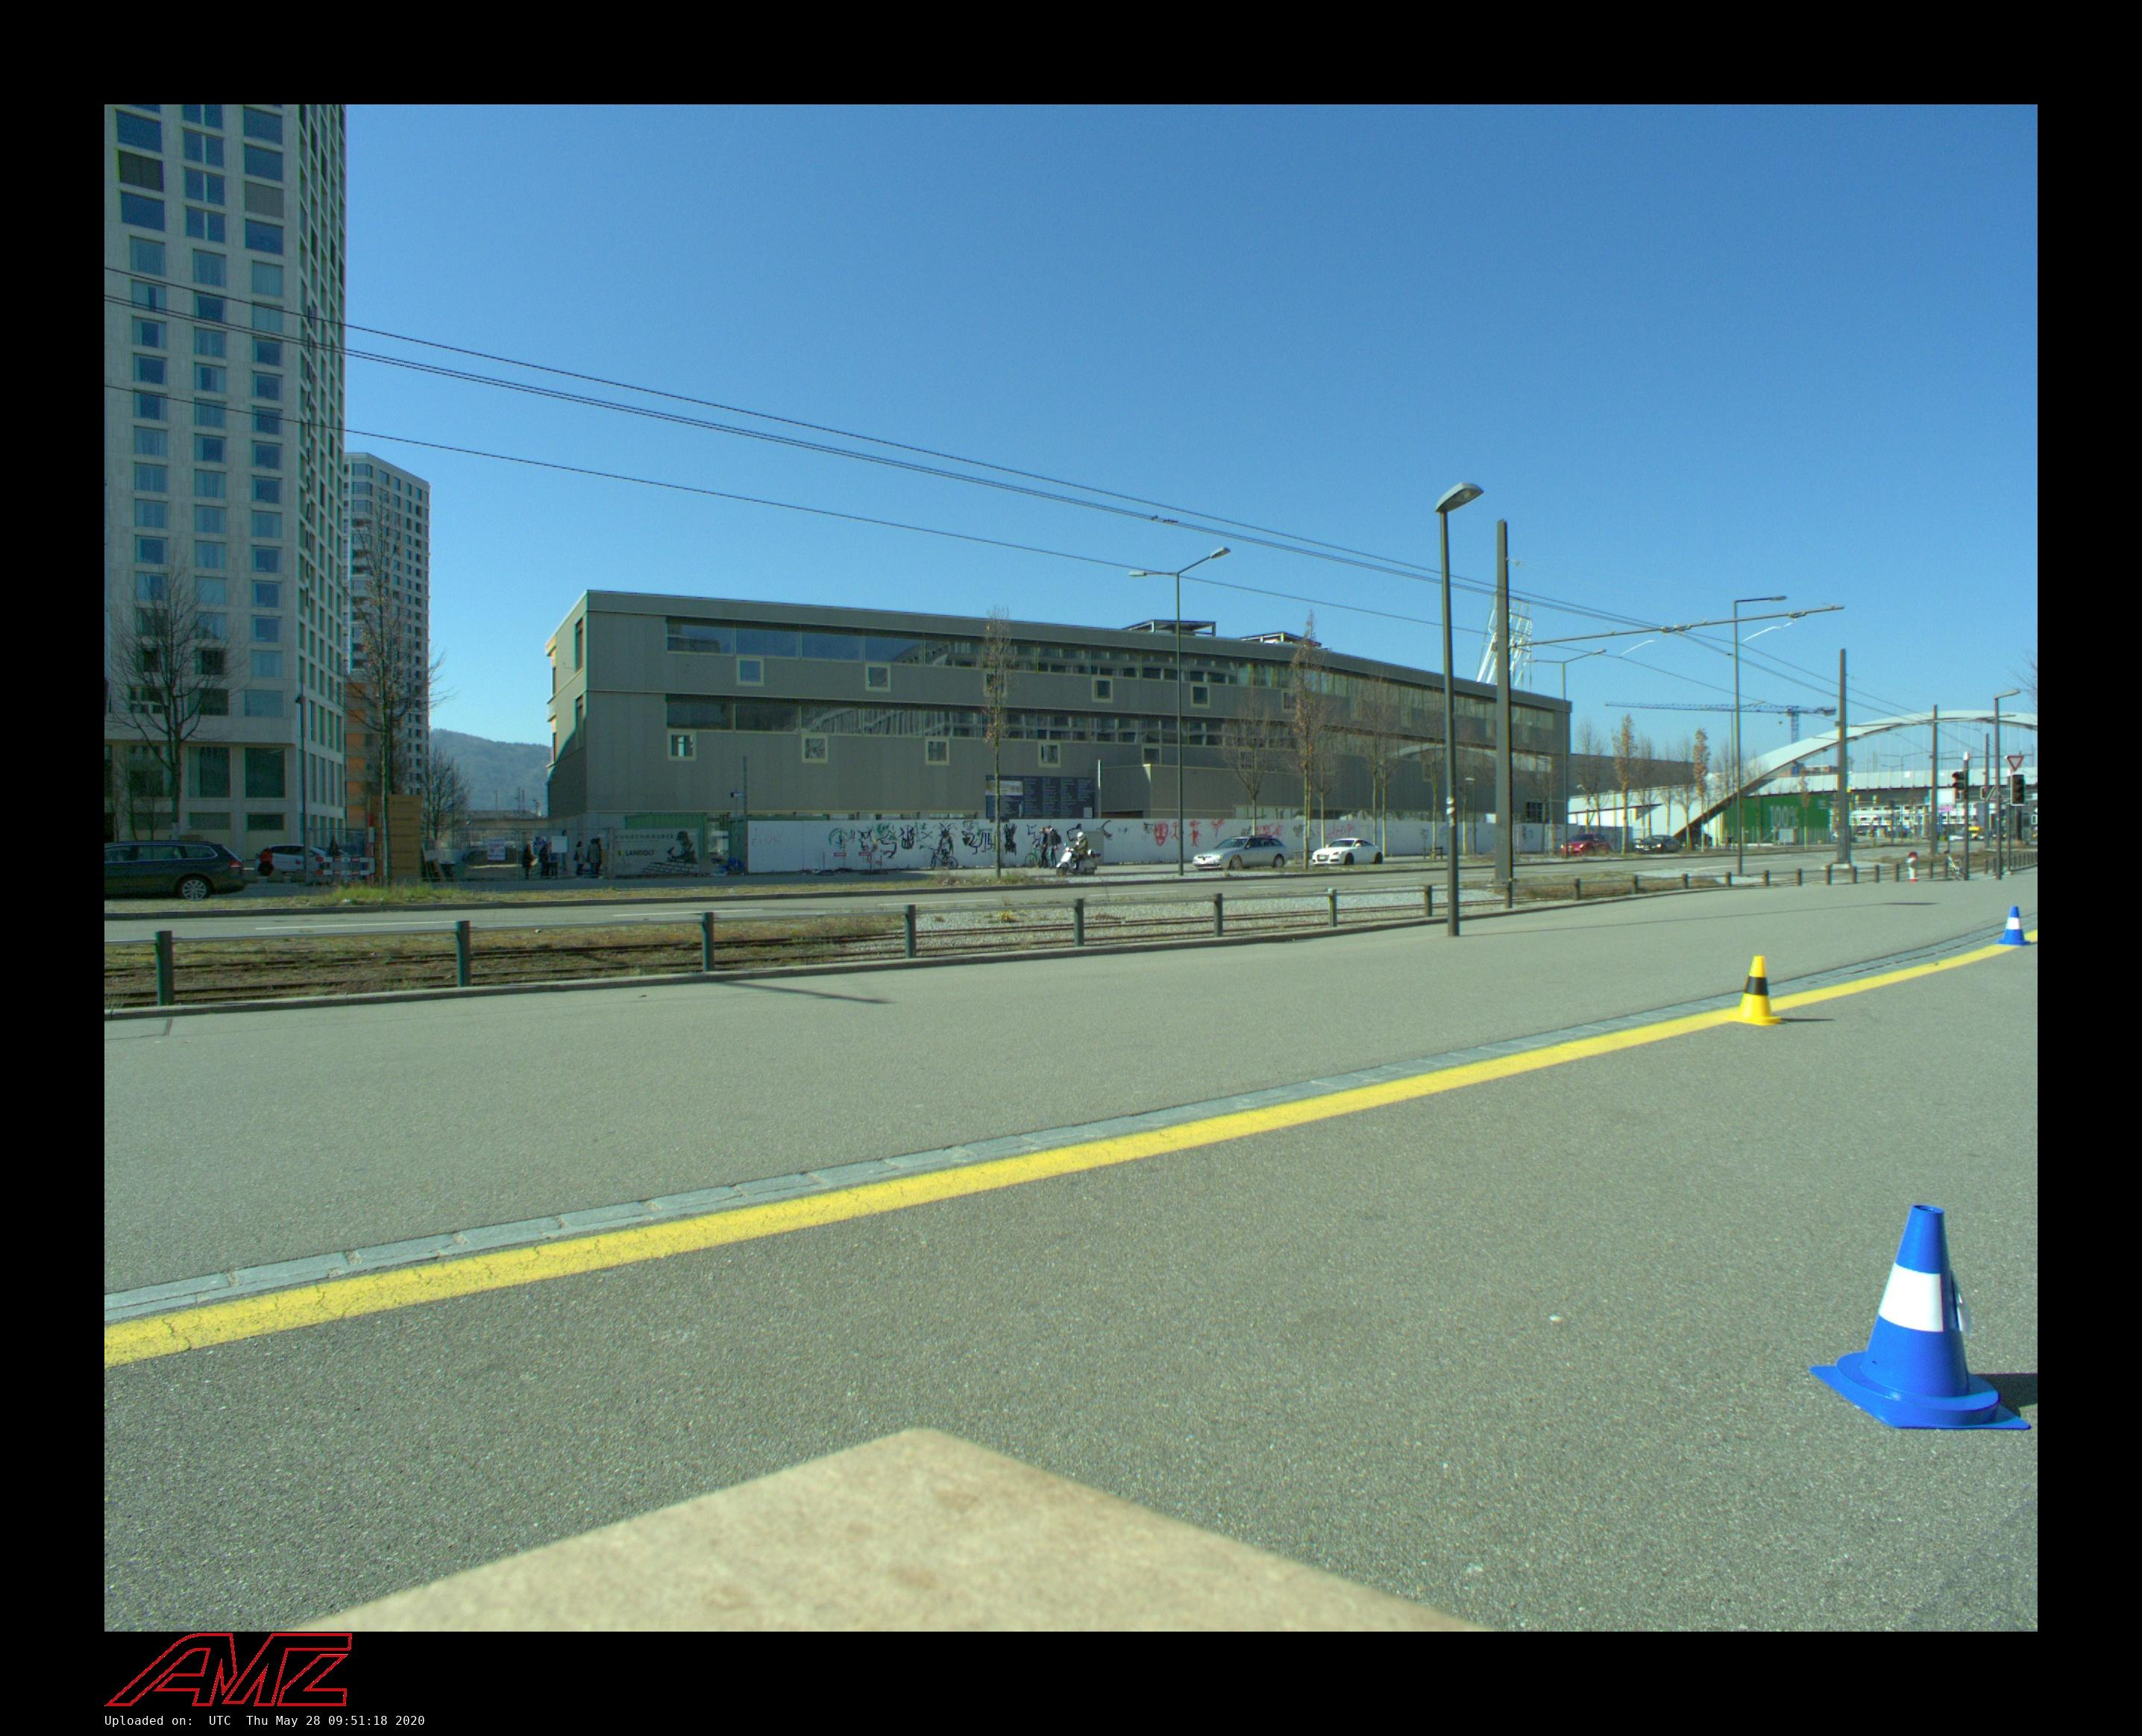blue_cone: (1809, 1205, 2032, 1430), (1991, 905, 2034, 946)
yellow_cone: (1726, 957, 1789, 1026)
